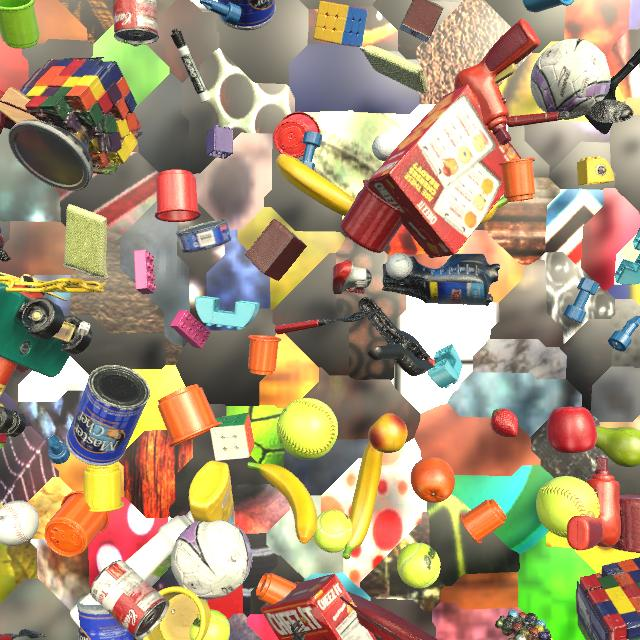ycb_002_master_chef_can: (66, 365, 150, 466), (77, 594, 142, 640), (217, 0, 276, 30)
ycb_003_cracker_box: (368, 84, 522, 258), (260, 574, 377, 640)
ycb_005_tomato_soup_can: (90, 560, 169, 640), (112, 0, 159, 45)
ycb_006_mustard_bottle: (188, 461, 235, 525)
ycb_007_tuna_fish_can: (176, 219, 231, 253)
ycb_011_banana: (247, 462, 317, 544), (276, 154, 355, 216), (342, 441, 383, 559), (480, 197, 507, 224)
ycb_012_strawberry: (490, 408, 518, 437)
ycb_013_apple: (547, 406, 597, 453)
ycb_015_peach: (368, 413, 407, 453)
ycb_016_pear: (595, 426, 640, 467)
ycb_017_orange: (410, 457, 455, 503)
ycb_018_plum: (637, 228, 640, 233)
